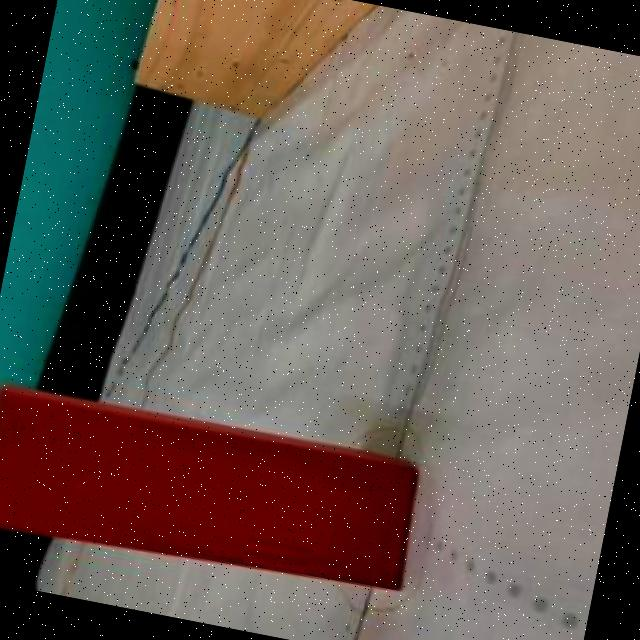redbox: (0, 374, 426, 611)
